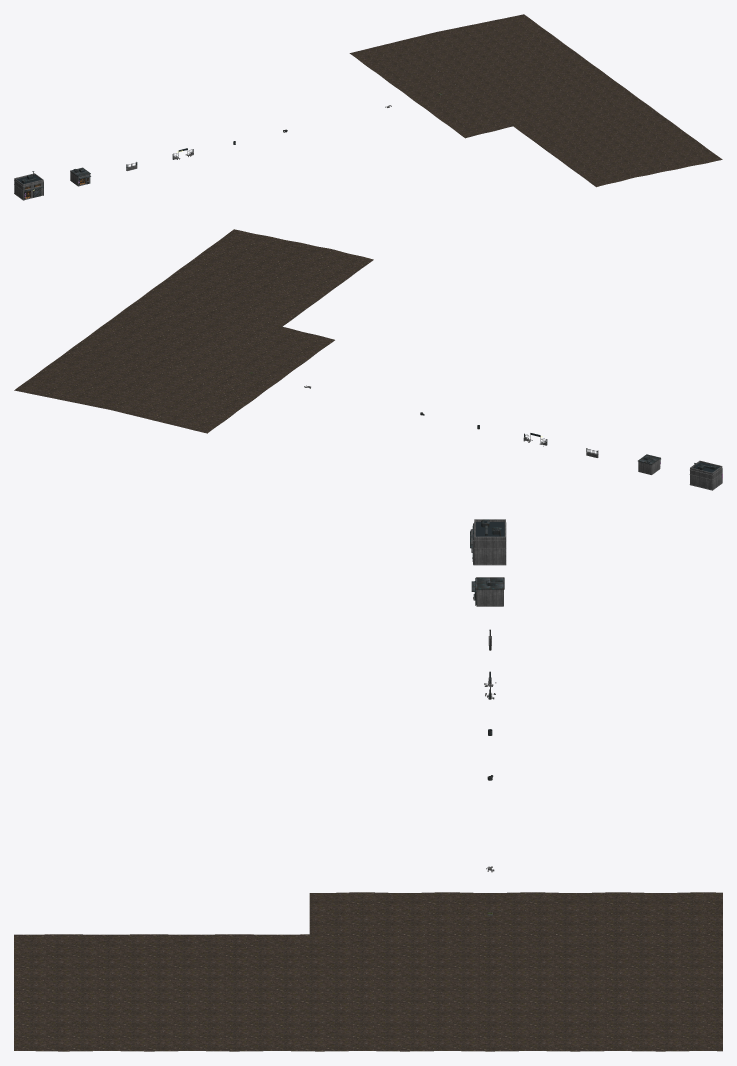
Rendered from east-district.glb.
3 views of the same model, one above another, from view 1: azimuth 30°, elevation 25°; view 2: azimuth 150°, elevation 25°; view 3: azimuth 270°, elevation 25° (orthographic). The views are drawn at different scales.
Visible parts, largest first — view 1: EastGround_Earth, Workshop_Concrete; view 2: EastGround_Earth, Workshop_Concrete; view 3: EastGround_Earth, Workshop_Concrete.
Part boxes in pixels (x1,y1,x2,y2): EastGround_Earth: [349, 14, 722, 187]; Workshop_Concrete: [14, 173, 43, 200]; EastGround_Earth: [14, 229, 373, 433]; Workshop_Concrete: [689, 460, 722, 490]; EastGround_Earth: [14, 892, 722, 1051]; Workshop_Concrete: [471, 519, 506, 565].
Size of the model in its own units: 222 by 8.78 by 134.
10 materials, 6 textured.
